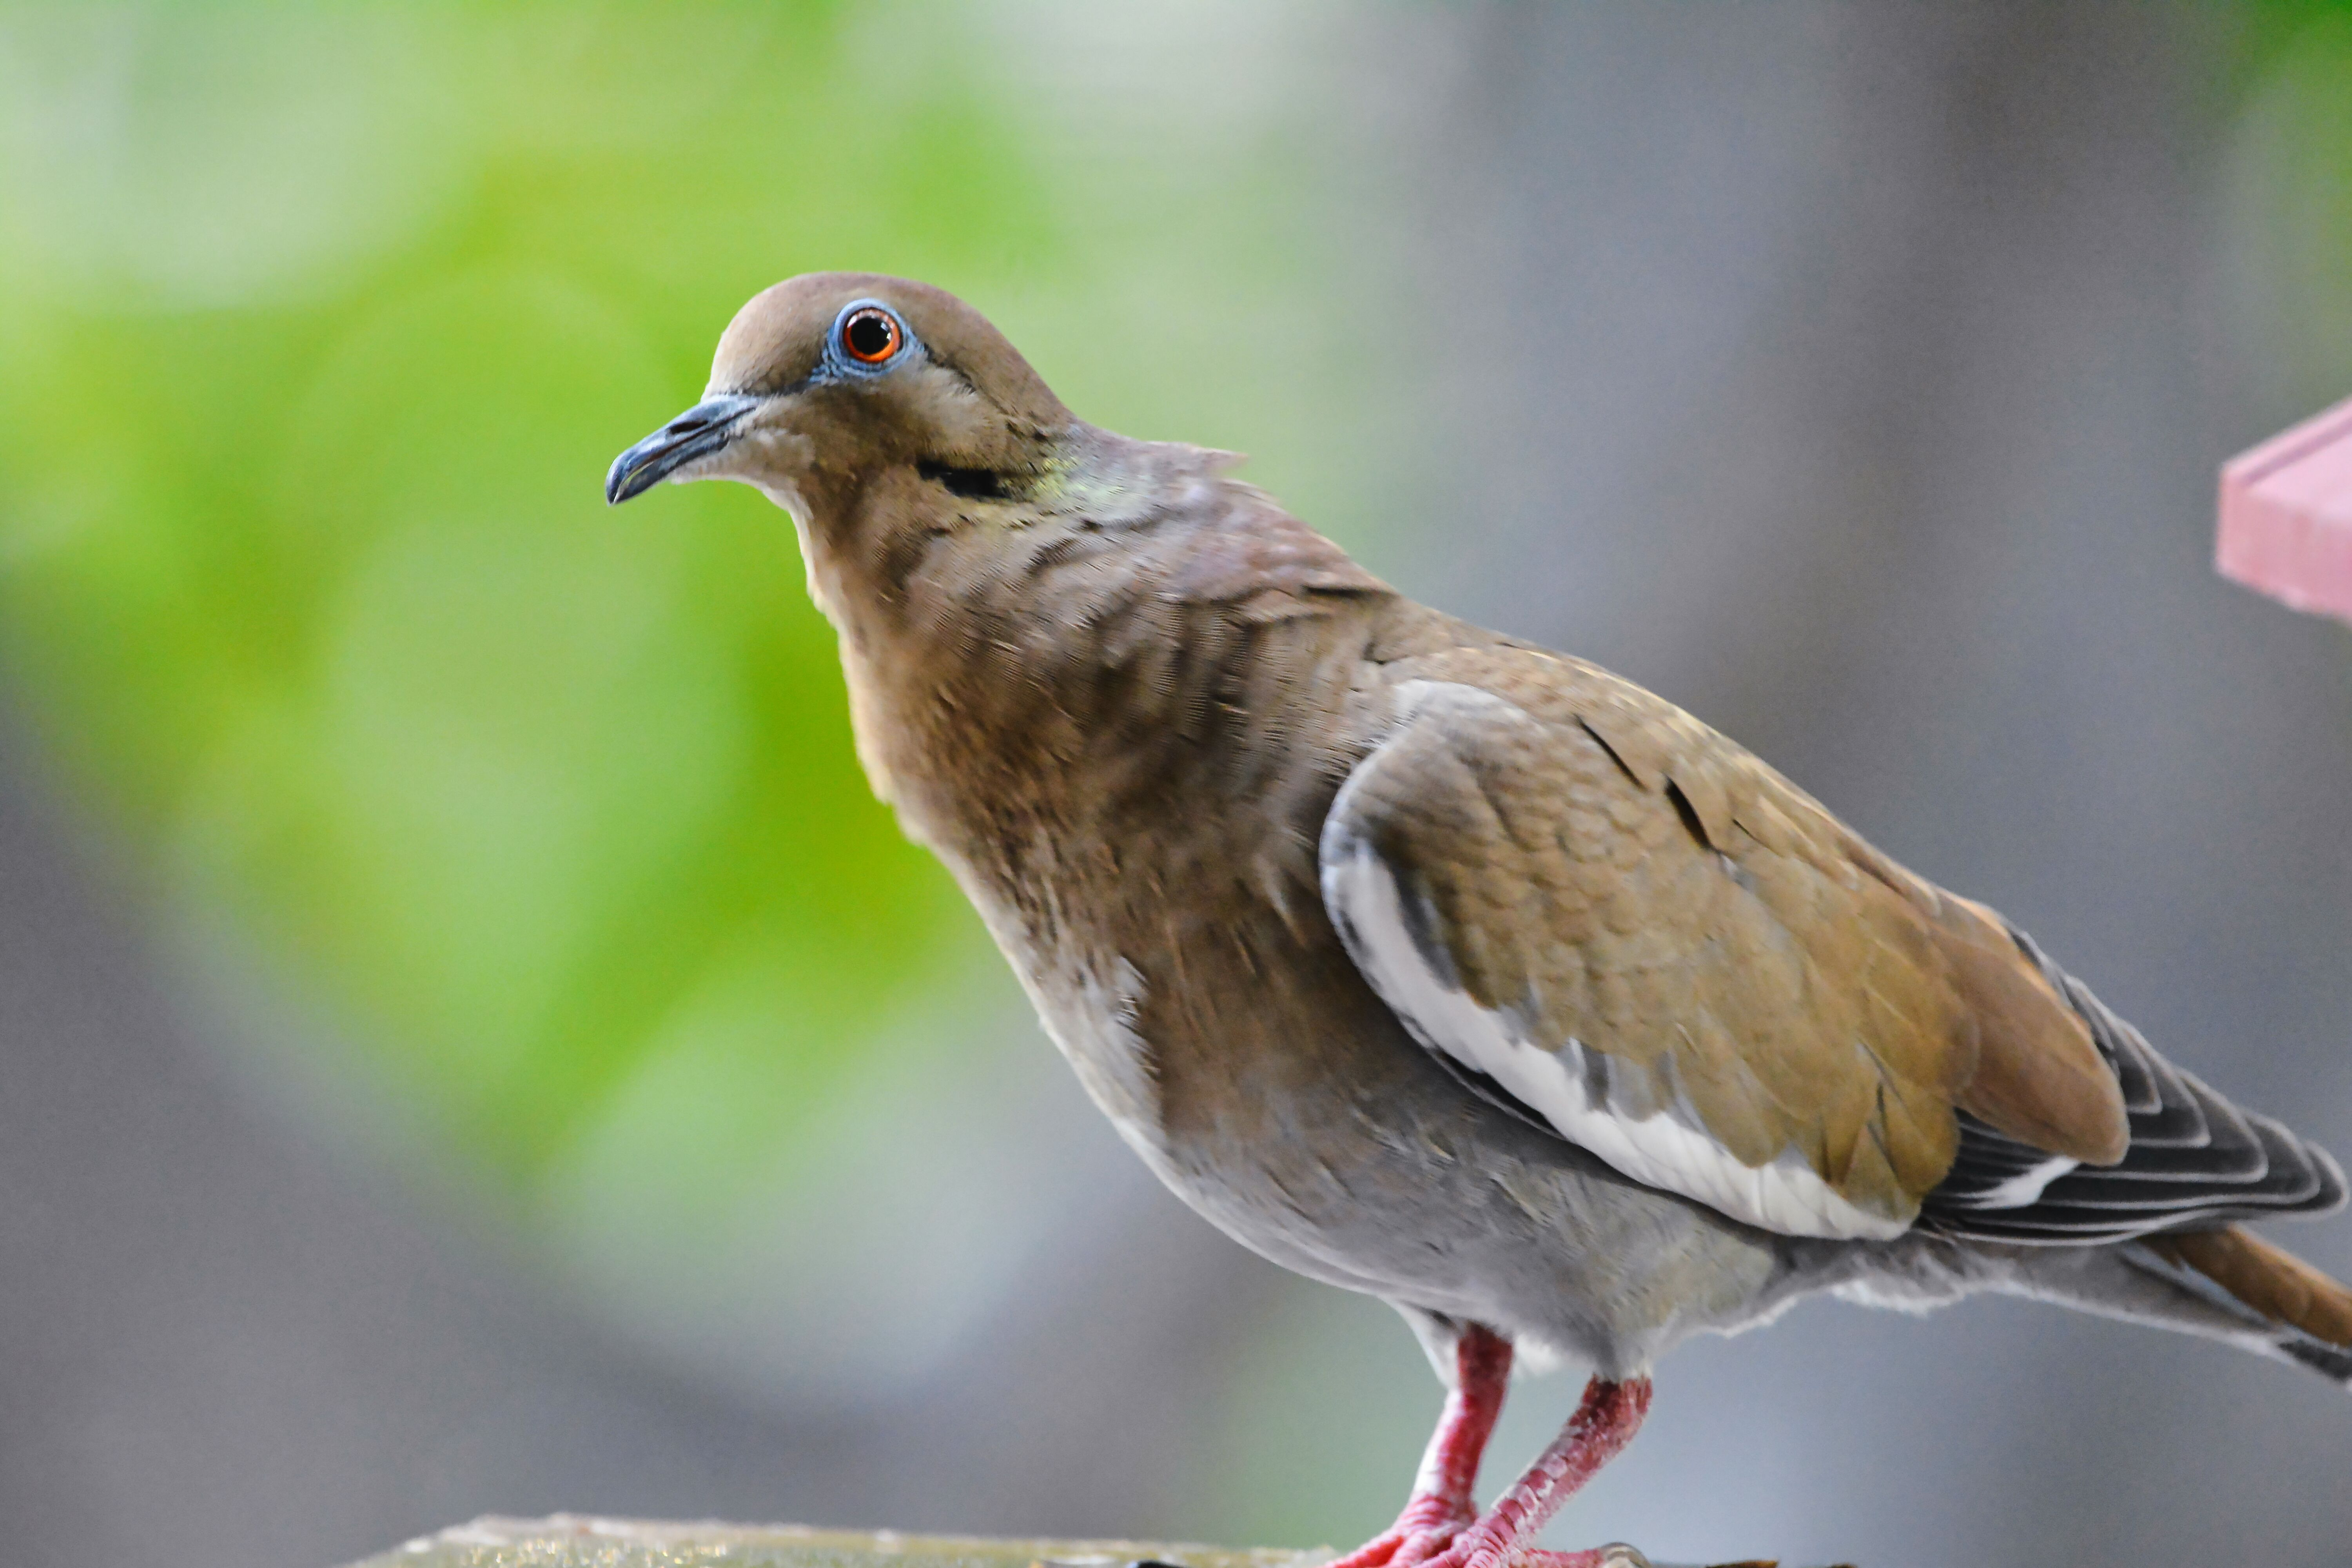bird: (595, 264, 2352, 1568)
nonbird: (79, 411, 549, 1281)
